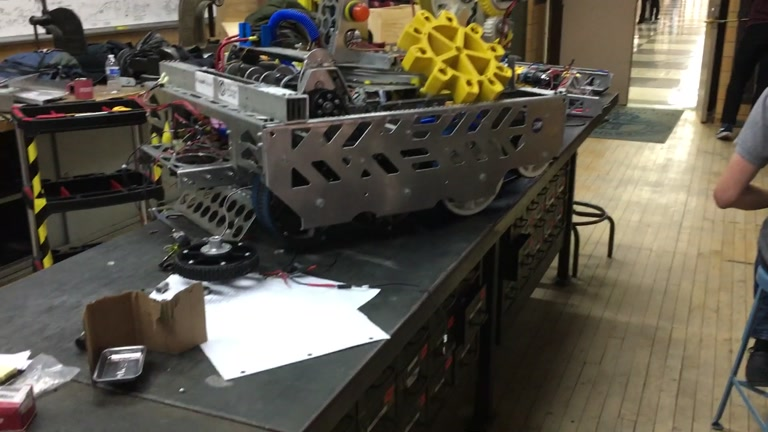gear: (400, 8, 512, 105)
